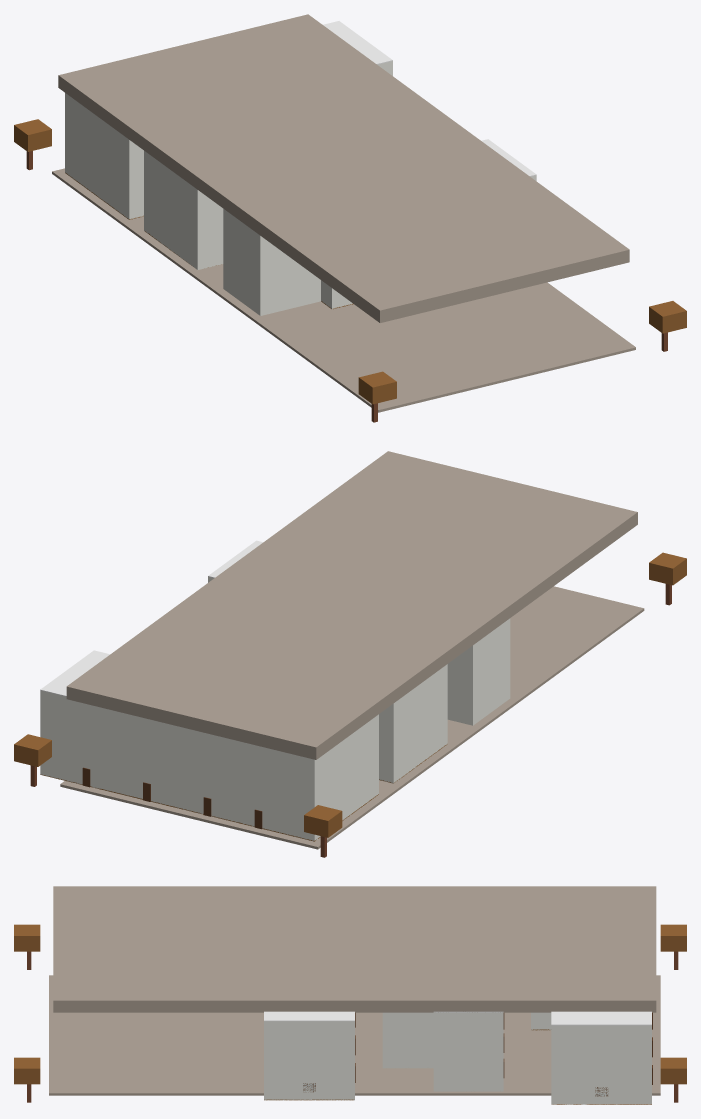
The model's file is enhanced_boq_fallback_1751737703925_ymqnusq9s.obj.
3 renders of one model, top to bottom at view 1: azimuth 30°, elevation 25°; view 2: azimuth 150°, elevation 25°; view 3: azimuth 270°, elevation 25°, orthographic. The views are drawn at different scales.
Visible parts, largest first — view 1: Roof, Foundation, Wall_Left_0, Wall_Left_4, Wall_Back_8, Wall_Left_8, Wall_Back_4, Wall_Back_0, TreeFoliage_2, TreeFoliage_0, TreeFoliage_3, Ceiling_3; view 2: Roof, Foundation, Wall_Front_0, Wall_Front_1, Wall_Front_2, Wall_Front_3, Wall_Left_0, Wall_Left_4, Wall_Left_8, Wall_Front_8, Wall_Front_4, TreeFoliage_0 (+3 smaller); view 3: Roof, Foundation, Wall_Right_3, Wall_Right_11, Wall_Right_7, Wall_Right_6, Ceiling_3, Ceiling_11, TreeFoliage_0, TreeFoliage_2, TreeFoliage_1, TreeFoliage_3 (+1 smaller).
Boxes of the visible parts, x1,y1,x2,y2 form: Roof: (58,14,629,322); Foundation: (52,168,635,412); Wall_Left_0: (65,93,130,219); Wall_Left_4: (144,151,197,267); Wall_Back_8: (259,235,320,315); Wall_Left_8: (223,209,260,315); Wall_Back_4: (197,189,223,269); Wall_Back_0: (128,139,143,219); TreeFoliage_2: (358,371,396,404); TreeFoliage_0: (14,119,51,151); TreeFoliage_3: (649,301,686,333); Ceiling_3: (323,21,392,64); Roof: (66,451,637,759); Foundation: (60,586,644,849); Wall_Front_0: (203,733,315,840); Wall_Front_1: (161,722,254,826); Wall_Front_2: (100,707,193,811); Wall_Front_3: (40,690,132,795); Wall_Left_0: (313,715,378,840); Wall_Left_4: (392,665,447,783); Wall_Left_8: (471,619,509,725); Wall_Front_8: (447,645,473,725); Wall_Front_4: (379,703,394,783); TreeFoliage_0: (304,805,342,837); Roof: (53,886,656,1012); Foundation: (49,975,660,1095); Wall_Right_3: (551,1025,651,1104); Wall_Right_11: (264,1021,354,1100); Wall_Right_7: (433,1012,503,1091); Wall_Right_6: (382,1012,433,1068); Ceiling_3: (551,1011,651,1025); Ceiling_11: (264,1011,354,1021); TreeFoliage_0: (660,924,686,951); TreeFoliage_2: (14,924,40,951); TreeFoliage_1: (660,1057,686,1084); TreeFoliage_3: (14,1057,40,1084).
Bounding box in the file's own units: 39 × 11.8 × 77.13.
